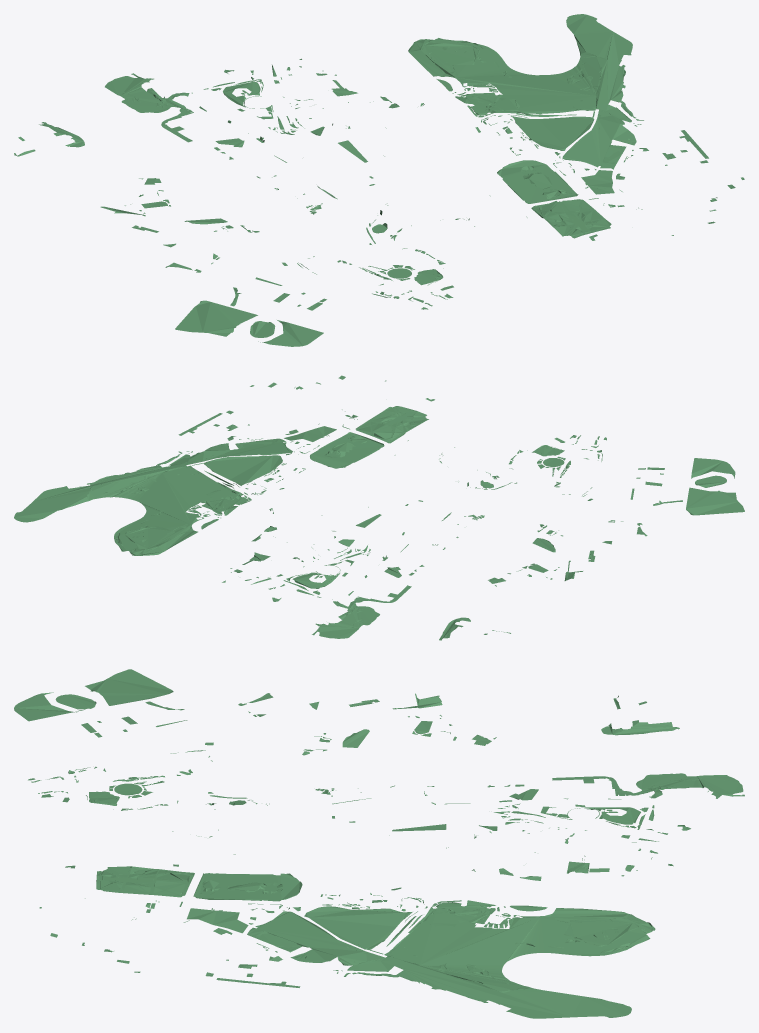
The model's file is green.glb.
3 views of the same model, one above another, from view 1: azimuth 30°, elevation 25°; view 2: azimuth 150°, elevation 25°; view 3: azimuth 270°, elevation 25° (orthographic). The views are drawn at different scales.
Parts seen in each view (by area): view 1: green; view 2: green; view 3: green.
Boxes of the visible parts, x1=… form: green: x1=14, y1=14, x2=744, y2=346; green: x1=14, y1=375, x2=744, y2=640; green: x1=14, y1=669, x2=744, y2=1018.
Size of the model in its own units: 3036 by 77.08 by 2682.
